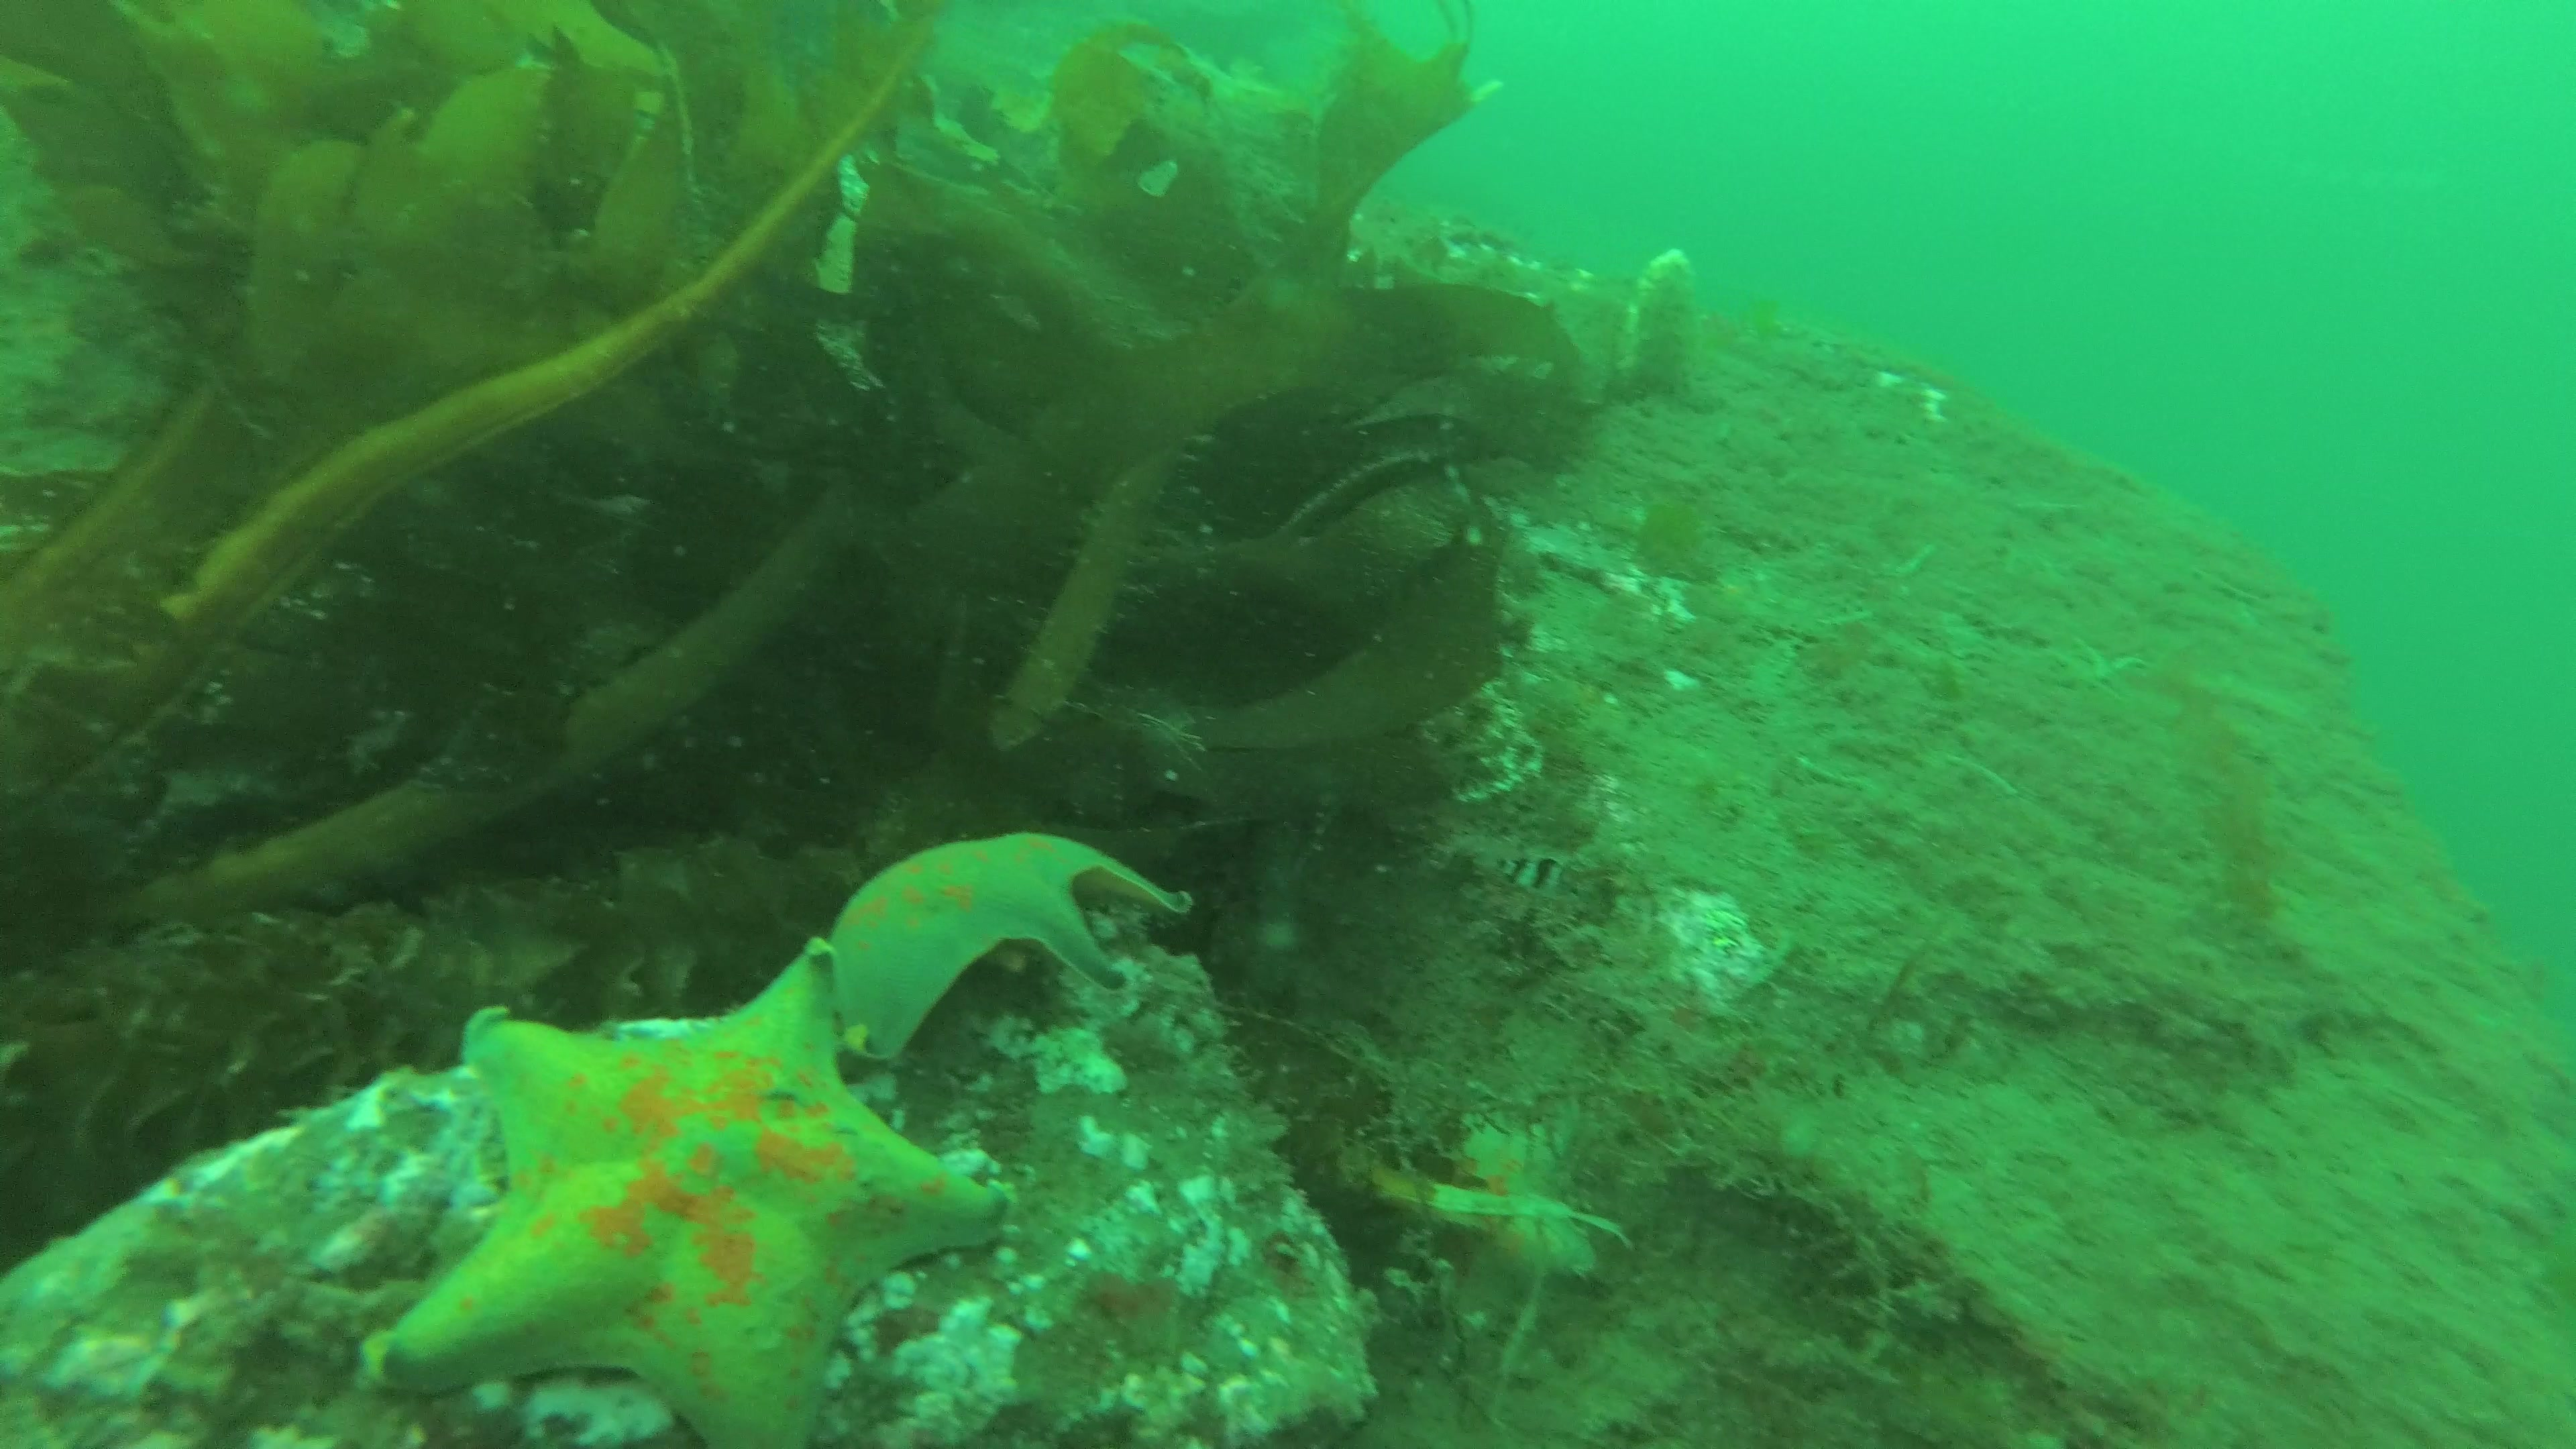starfish: (364, 932, 1010, 1449), (816, 832, 1189, 1065)
